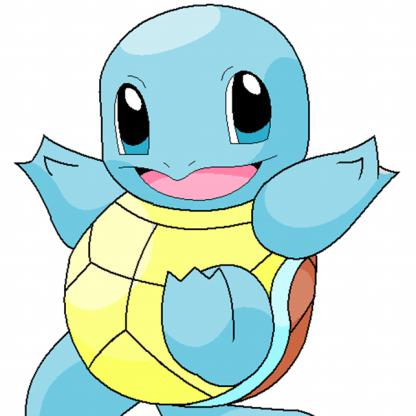Squirtle: (1, 1, 373, 416)
